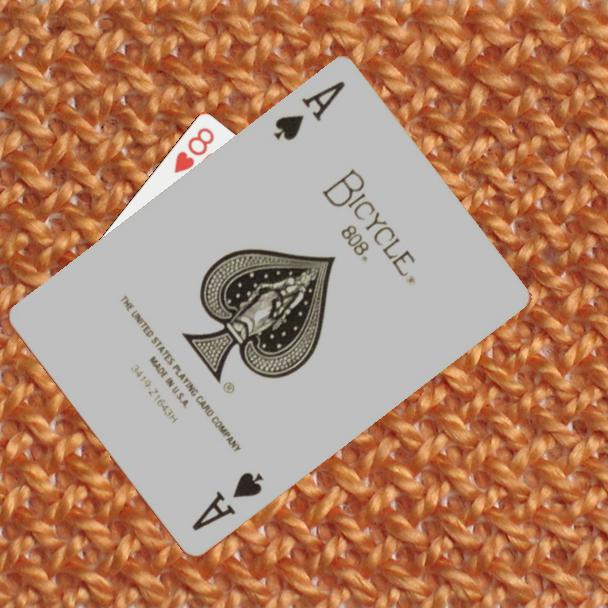h08: (170, 124, 217, 177)
s01: (270, 76, 349, 143), (188, 467, 267, 534)
